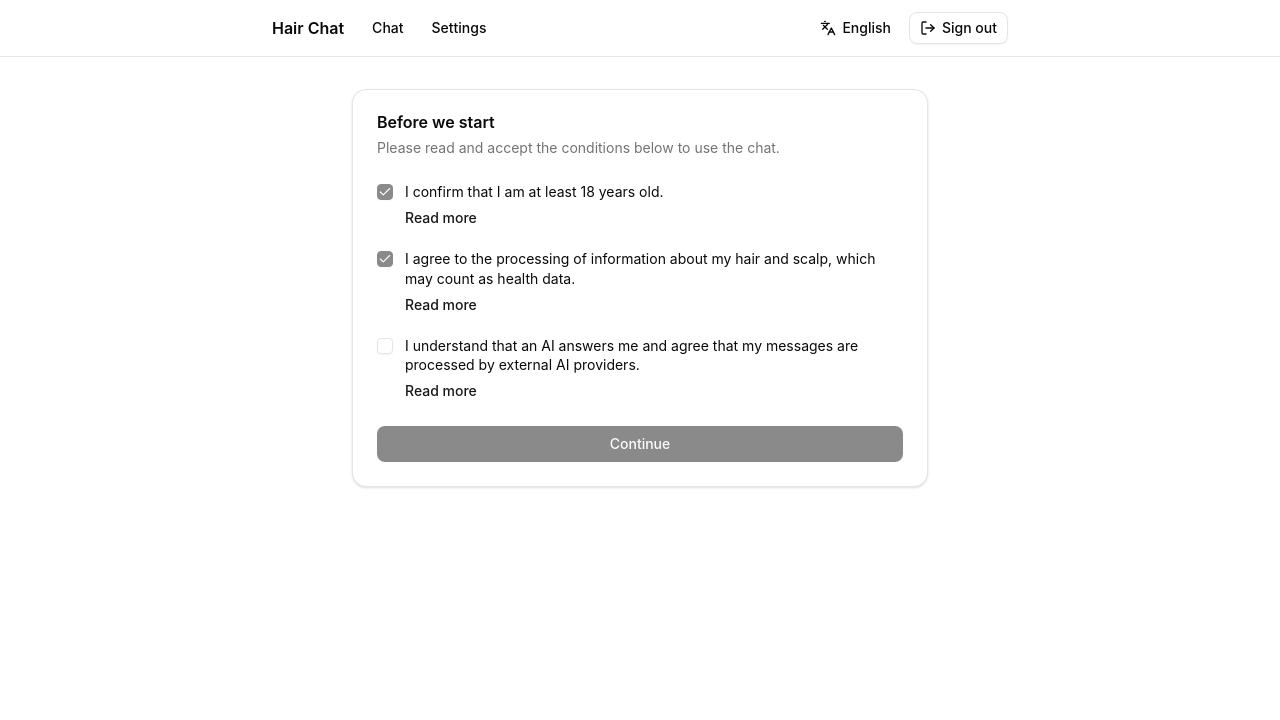
it: ConsentsPage › shows a POST error as localized text
The width and height of the screenshot is (1280, 720).
Click the 3rd checkbox named "I understand that an AI answers me".
click(385, 346)  # box [377, 338, 393, 354]
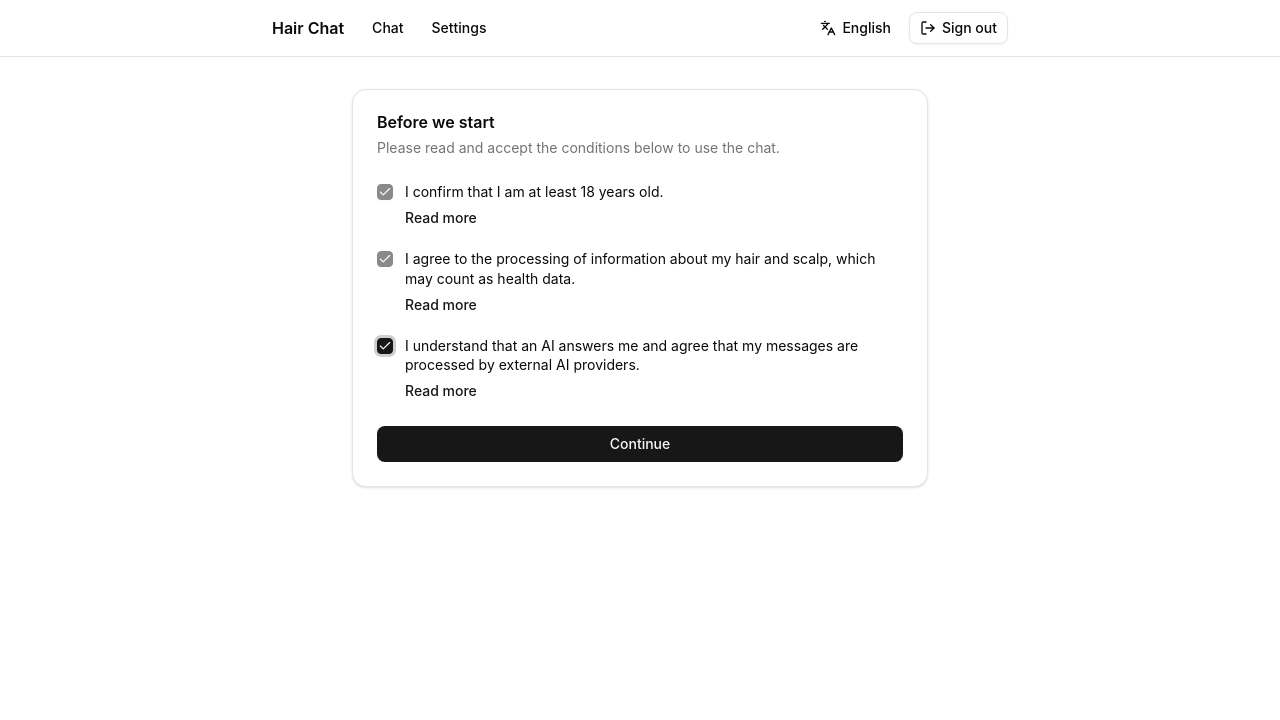
Click the button "Continue".
click(640, 444)  # box [377, 426, 903, 462]
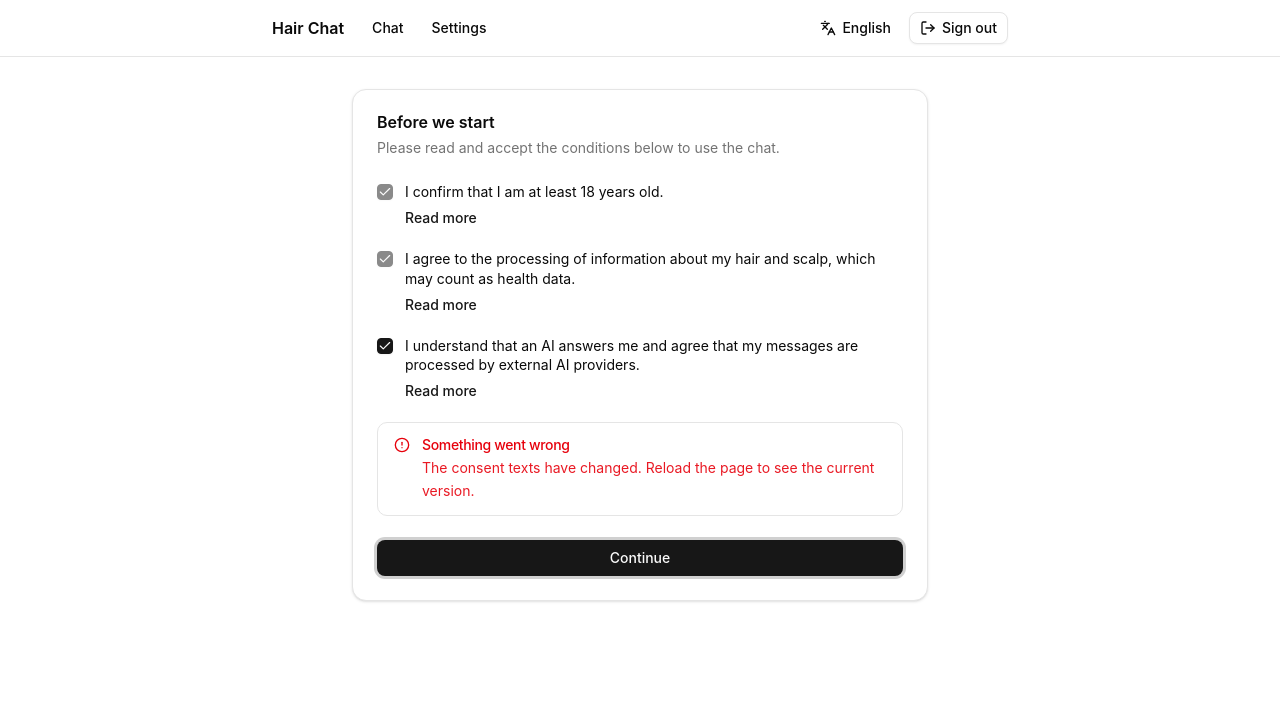
Check: the text "The consent texts have changed. Reload the page to see the current version." is shown, box [422, 457, 886, 503]
